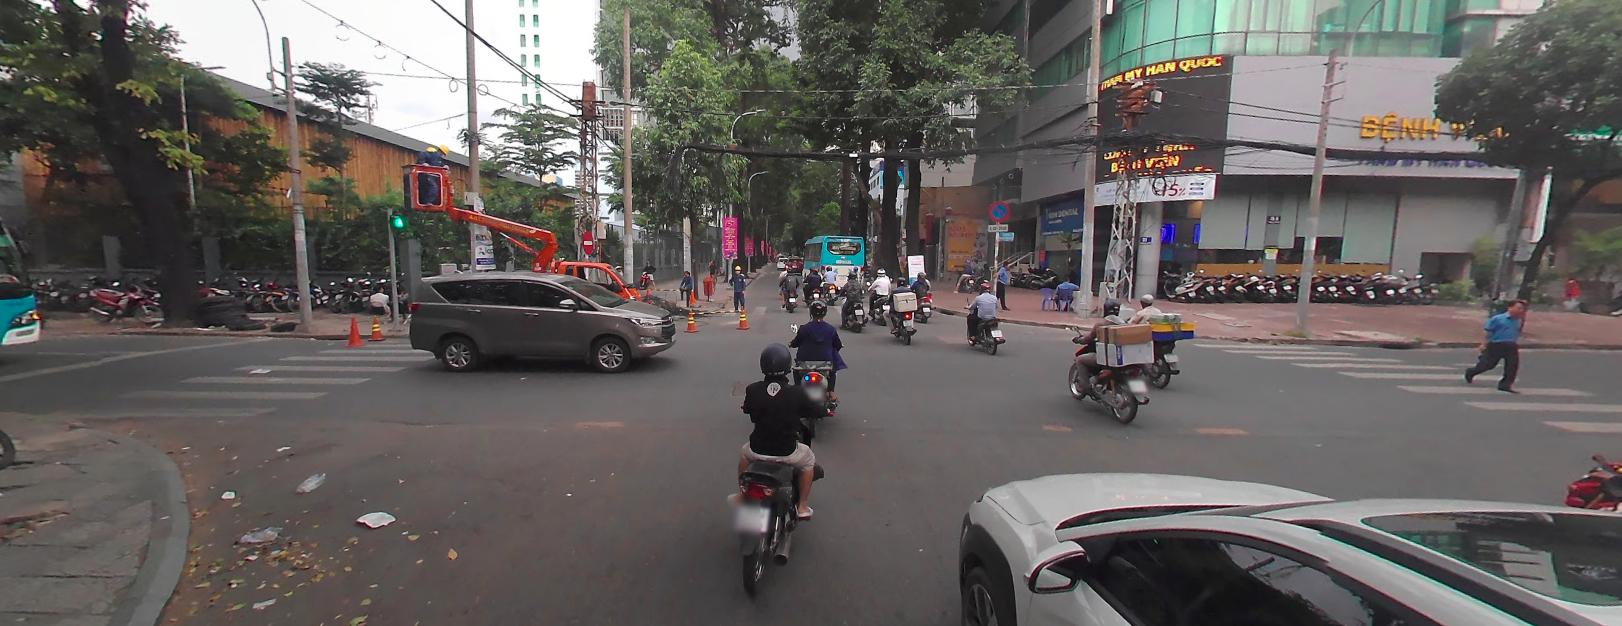Cam dung va do: (988, 198, 1011, 221)
